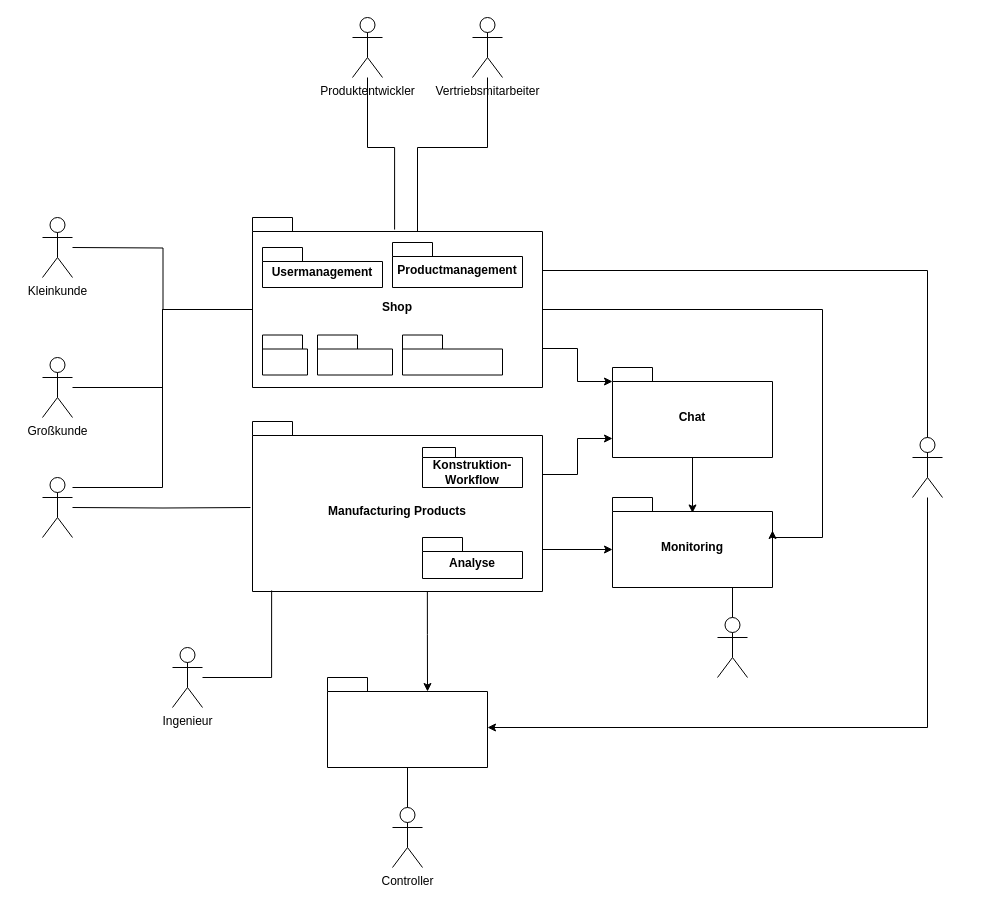
The diagram is 992 pixels wide and 906 high, and some of its shapes have lost their labels. The centre of each missing label's shape, as x and y in pixels:
"Billing" belongs at pixel 285 354.
"Controlling" belongs at pixel 407 722.
"Entwickler" belongs at pixel 732 647.
"Geschäftsführung" belongs at pixel 927 467.
"Premiumkunde" belongs at pixel 57 507.
"Purchasing" belongs at pixel 354 354.
"Shipping" belongs at pixel 452 354.
